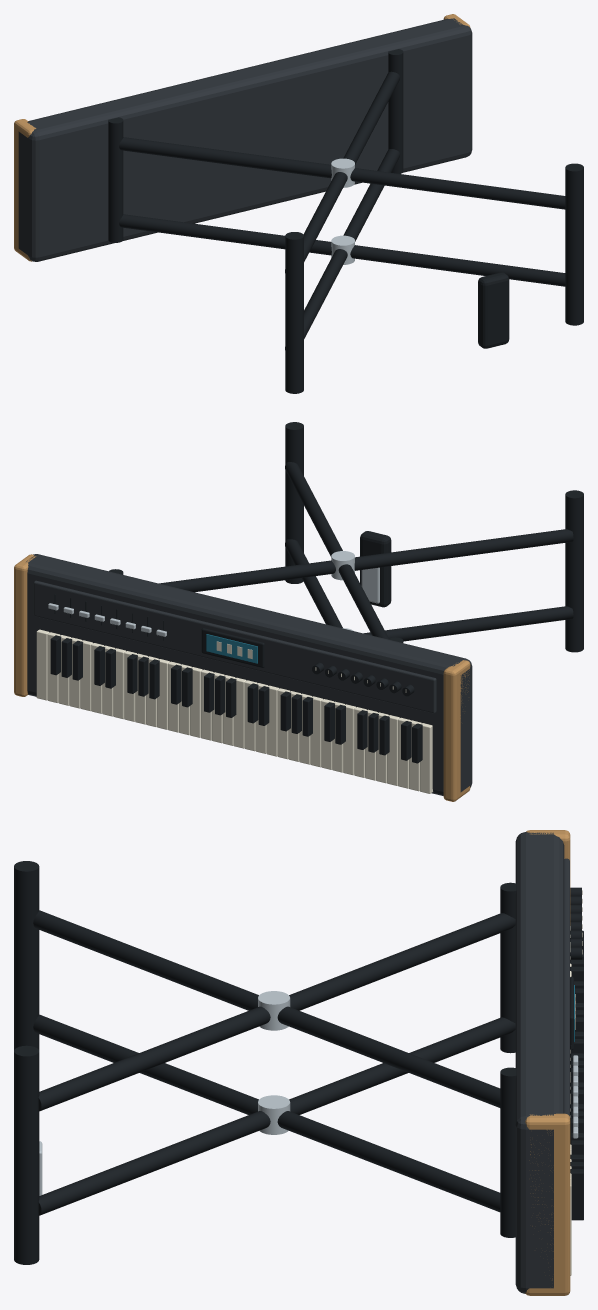
The model's file is Keyboard.fbx.
3 views of the same model, one above another, from view 1: azimuth 30°, elevation 25°; view 2: azimuth 150°, elevation 25°; view 3: azimuth 270°, elevation 25° (orthographic). The views are drawn at different scales.
Visible parts, largest first — view 1: Stage piano chassis, Double X stand.003, Double X stand.001, Stand foot.001, Stand foot, Double X stand.002, Double X stand, Sustain pedal, Stand cradle, Stand cradle.001, Walnut end cheek; view 2: Stage piano chassis, Control panel, Double X stand.002, Stand foot, Walnut end cheek, Double X stand, Double X stand.003, Stand foot.001, Walnut end cheek.001, Sustain pedal, Double X stand.001, White key 35 (+20 smaller); view 3: Stage piano chassis, Double X stand.003, Double X stand.002, Double X stand.001, Double X stand, Stand foot.001, Stand foot, Walnut end cheek.001, Stand cradle.001, Stand cradle, Control panel, Stand pivot (+2 smaller).
Part boxes in pixels (x1,y1,x2,y2): Stage piano chassis: (18,18,472,261); Double X stand.003: (119,137,565,209); Double X stand.001: (119,214,565,286); Stand foot.001: (565,163,583,325); Stand foot: (285,232,303,393); Double X stand.002: (285,71,400,272); Double X stand: (285,149,400,349); Sustain pedal: (478,272,509,348); Stand cradle: (108,117,123,242); Stand cradle.001: (388,49,403,173); Walnut end cheek: (14,119,36,261); Stage piano chassis: (26,554,472,795); Control panel: (33,580,436,713); Double X stand.002: (159,529,573,592); Stand foot: (565,490,583,652); Walnut end cheek: (443,660,470,801); Double X stand: (363,606,573,641); Double X stand.003: (285,462,388,639); Stand foot.001: (285,422,303,583); Walnut end cheek.001: (14,554,36,696); Sustain pedal: (360,531,391,607); Double X stand.001: (285,539,342,627); White key 35: (36,629,49,700); Stage piano chassis: (515,832,564,1293); Double X stand.003: (38,913,515,1111); Double X stand.002: (33,910,500,1107); Double X stand.001: (38,1017,515,1215); Double X stand: (33,1014,500,1212); Stand foot.001: (14,1045,39,1264); Stand foot: (14,861,39,1050); Walnut end cheek.001: (525,1113,570,1295); Stand cradle.001: (500,1067,516,1237); Stand cradle: (500,882,516,1053); Control panel: (564,858,569,1116); Stand pivot: (258,1095,290,1134).
Size of the model in its own units: 120 by 41 by 99.05.
